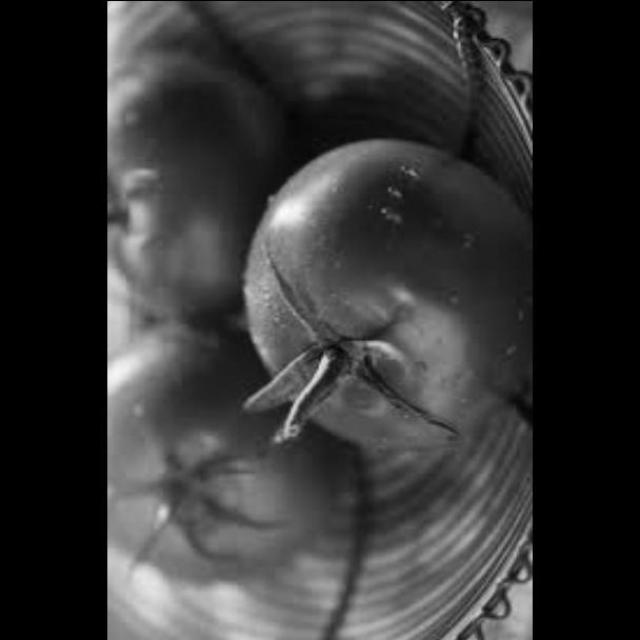tomato: (238, 135, 530, 458), (105, 320, 342, 580), (106, 40, 292, 326)
